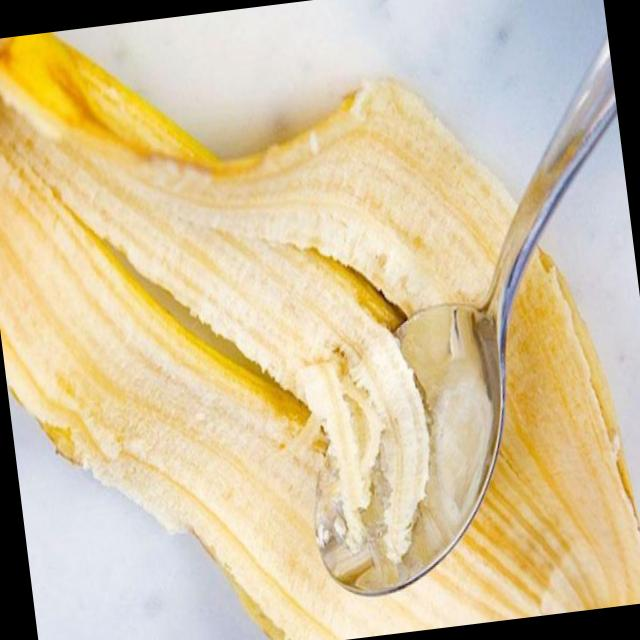banana_peel: (0, 59, 640, 640)
